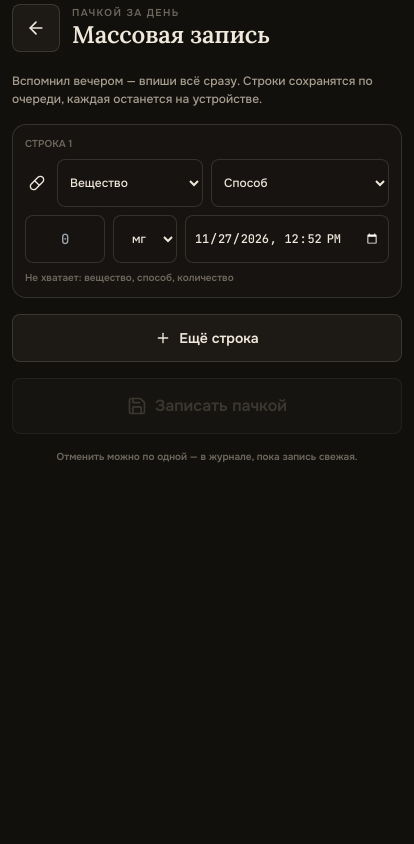
Test: BulkAdd › adds a row and reports per-row gaps
The width and height of the screenshot is (414, 844).
Click the button "Ещё строка" at (207, 338), box [12,314,402,362]
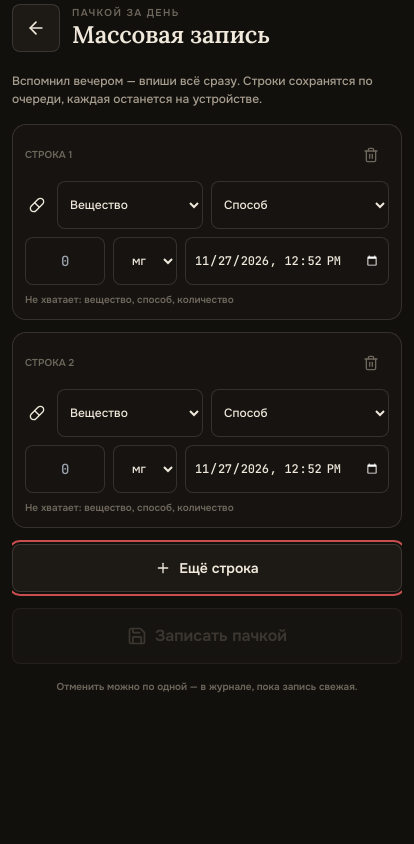
Result: the text "Строка 2" is shown at [25,356,74,370]
